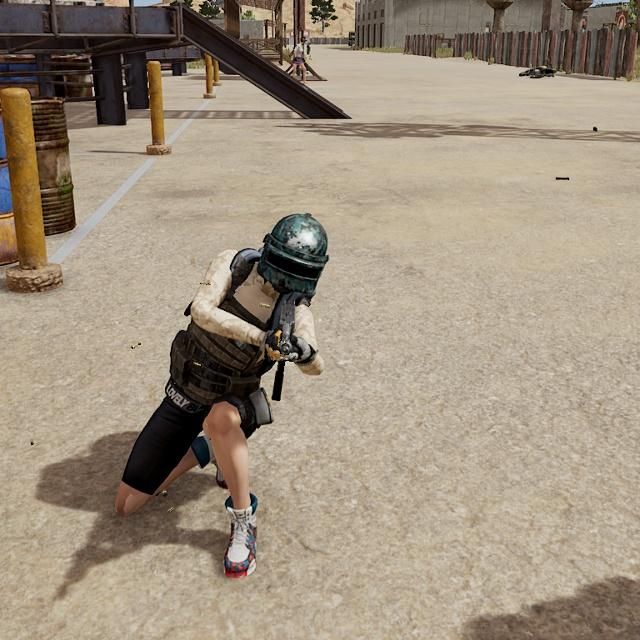head: (251, 211, 335, 300), (299, 35, 308, 45)
people: (110, 204, 340, 576), (289, 34, 311, 86)
